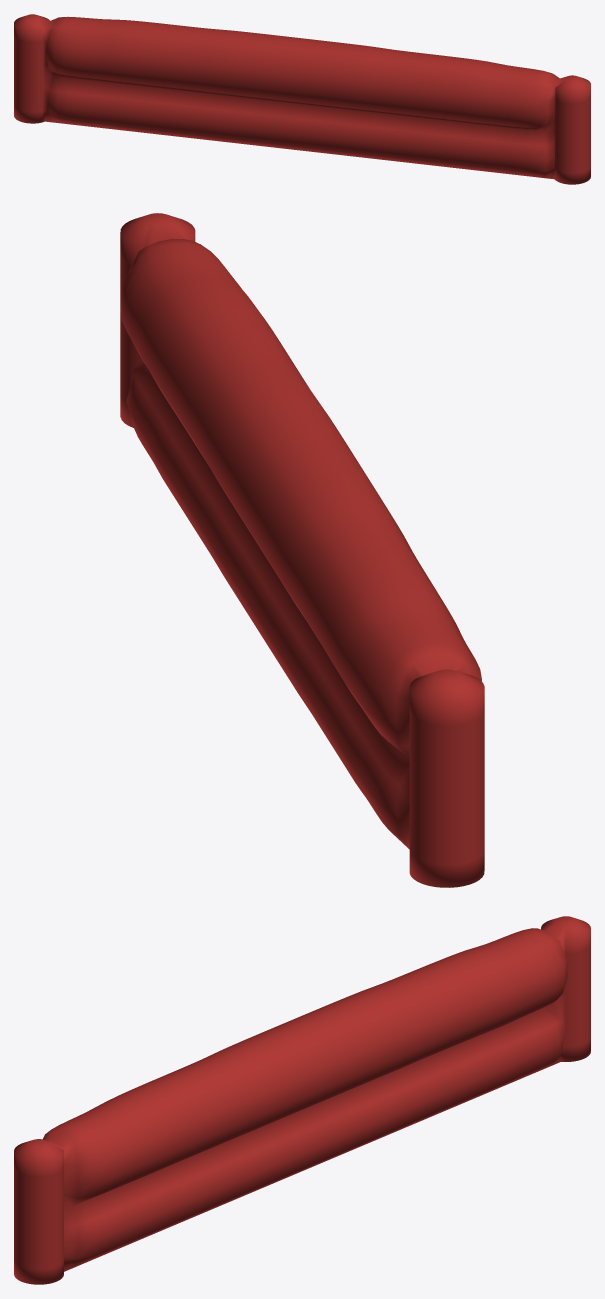
The model's file is wall_diag2.fbx.
The picture shows the model from 3 angles, top to bottom: view 1: azimuth 30°, elevation 25°; view 2: azimuth 150°, elevation 25°; view 3: azimuth 270°, elevation 25°; orthographic projection. The views are drawn at different scales.
Visible parts, largest first — view 1: bouncyWall2.diagonal; view 2: bouncyWall2.diagonal; view 3: bouncyWall2.diagonal.
Part boxes in pixels (x1=…): bouncyWall2.diagonal: x1=14, y1=14, x2=590, y2=184; bouncyWall2.diagonal: x1=120, y1=213, x2=484, y2=887; bouncyWall2.diagonal: x1=14, y1=916, x2=590, y2=1284.
Bounding box in the file's own units: 199 × 53.12 × 199.
